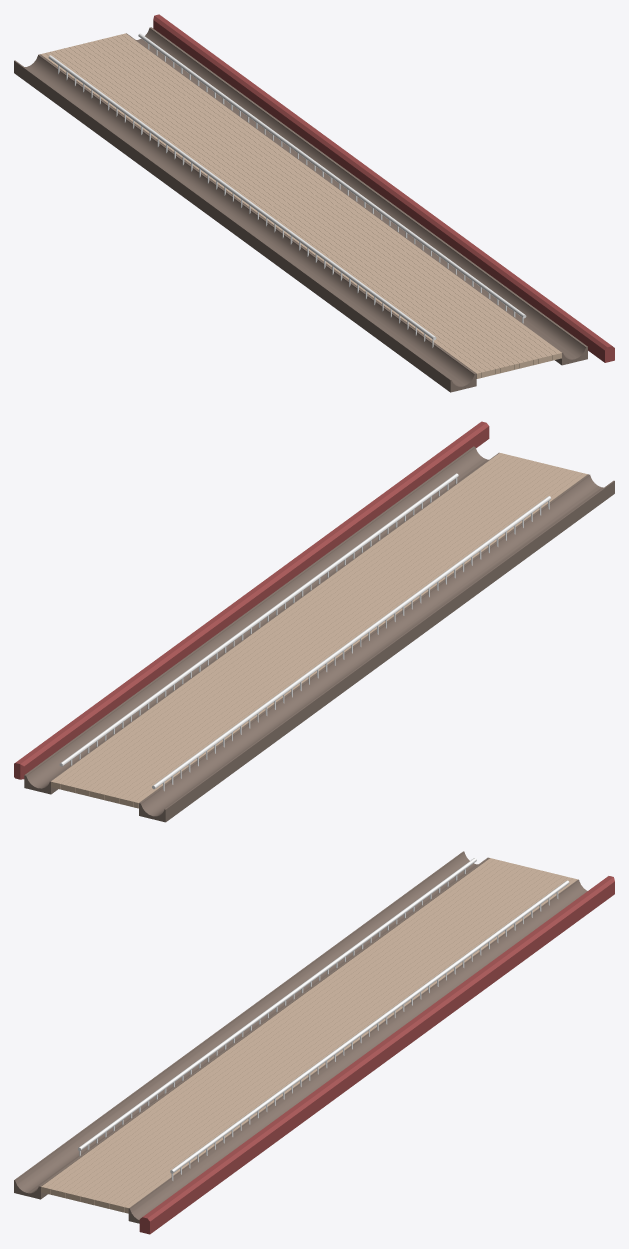
File: Lane.fbx
3 views of the same model, one above another, from view 1: azimuth 30°, elevation 25°; view 2: azimuth 150°, elevation 25°; view 3: azimuth 330°, elevation 25° (orthographic). The views are drawn at different scales.
Parts seen in each view (by area): view 1: Lane_Bowling_main2, Slider4, Slider5, Lane_Bar, Guardrail8, Guardrail9; view 2: Lane_Bowling_main2, Slider4, Slider5, Lane_Bar, Guardrail8, Guardrail9; view 3: Lane_Bowling_main2, Lane_Bar, Slider4, Slider5, Guardrail9, Guardrail8.
Boxes of the visible parts, x1,y1,x2,y2 form: Lane_Bowling_main2: [40, 33, 561, 378]; Slider4: [14, 54, 476, 392]; Slider5: [126, 27, 587, 365]; Lane_Bar: [153, 14, 614, 362]; Guardrail8: [48, 55, 436, 347]; Guardrail9: [138, 33, 526, 323]; Lane_Bowling_main2: [51, 453, 587, 808]; Slider4: [139, 474, 614, 822]; Slider5: [24, 446, 499, 794]; Lane_Bar: [14, 421, 489, 779]; Guardrail8: [152, 496, 551, 791]; Guardrail9: [59, 473, 458, 766]; Lane_Bowling_main2: [41, 858, 577, 1213]; Lane_Bar: [139, 876, 614, 1234]; Slider4: [14, 851, 489, 1199]; Slider5: [128, 879, 587, 1223]; Guardrail9: [170, 880, 569, 1180]; Guardrail8: [78, 858, 476, 1156].
Bounding box in the file's own units: 1030 × 151 × 5452.
